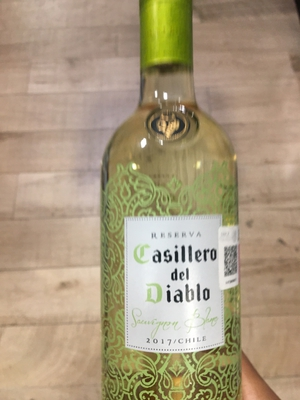casillero del diablo sauvignon blanc: (98, 11, 239, 400)
